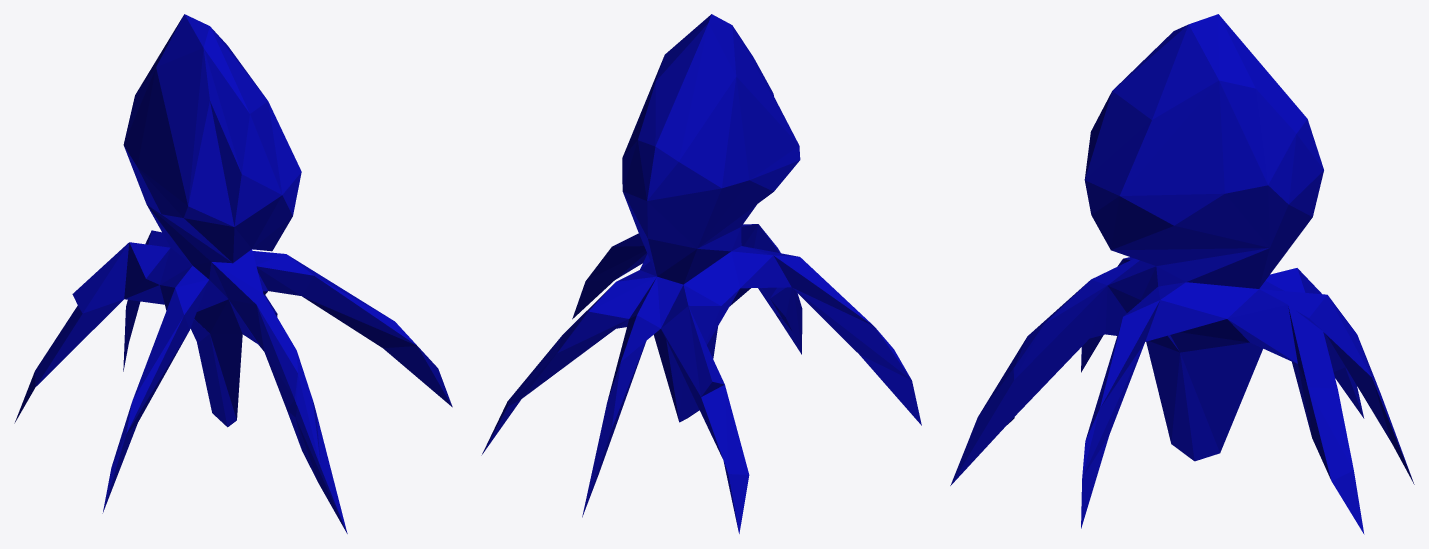
Rendered from Smaller Blue Virus.fbx.
The picture shows the model from 3 angles, left to right: view 1: azimuth 30°, elevation 25°; view 2: azimuth 150°, elevation 25°; view 3: azimuth 270°, elevation 25°; orthographic projection. The views are drawn at different scales.
Visible parts, largest first — view 1: Virus:Mesh; view 2: Virus:Mesh; view 3: Virus:Mesh.
Part boxes in pixels (x1,y1,x2,y2): Virus:Mesh: (14,14,452,533); Virus:Mesh: (481,14,921,533); Virus:Mesh: (950,14,1414,534).
Size of the model in its own units: 10.82 by 12.9 by 11.9.
